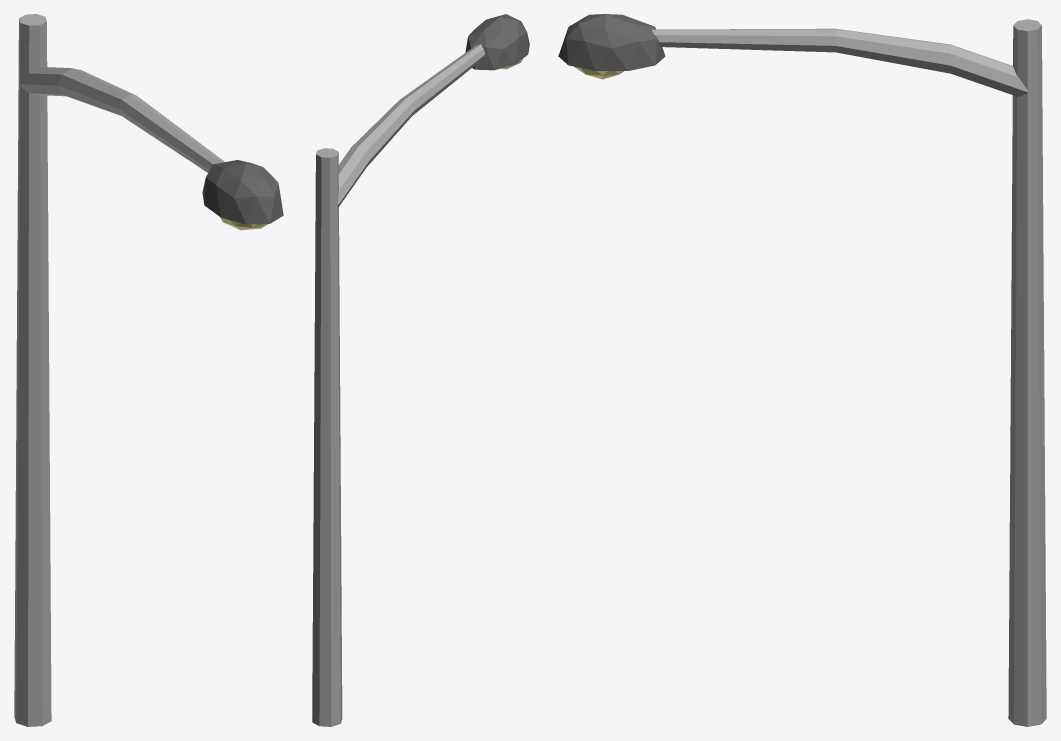
The model's file is streetLight.fbx.
3 views of the same model, side by side, from view 1: azimuth 30°, elevation 25°; view 2: azimuth 150°, elevation 25°; view 3: azimuth 270°, elevation 25° (orthographic). The views are drawn at different scales.
Visible parts, largest first — view 1: Cube; view 2: Cube; view 3: Cube.
Part boxes in pixels (x1,y1,x2,y2): Cube: (14,14,283,726); Cube: (312,14,529,726); Cube: (558,14,1046,726).
Bounding box in the file's own units: 18.18 × 204 × 128.
